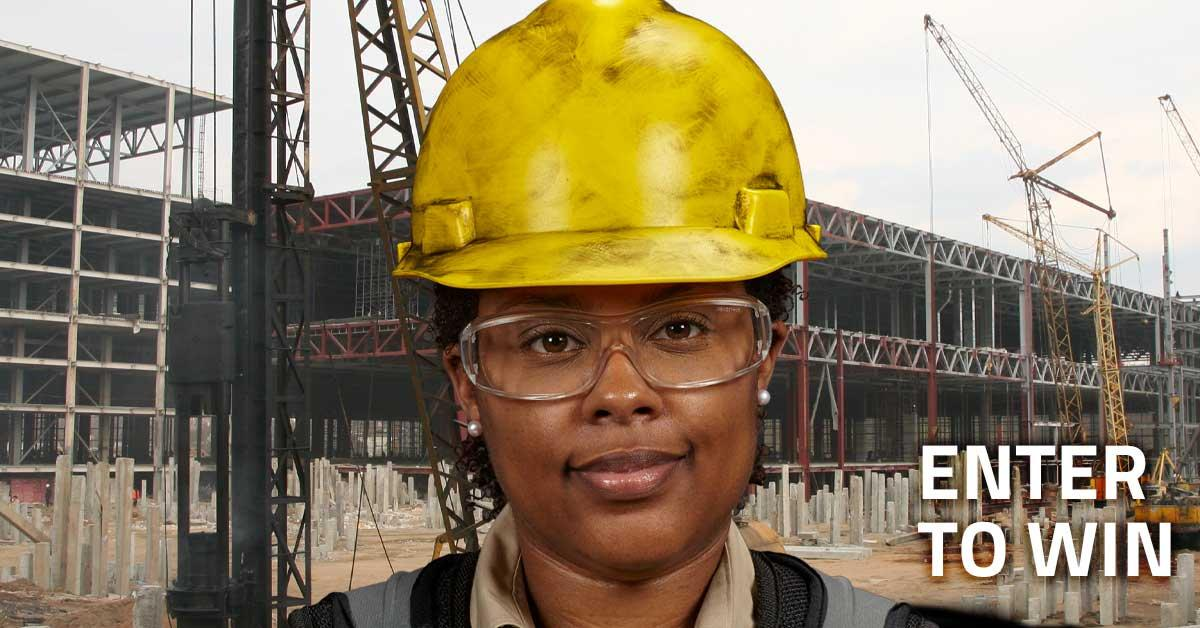helmet: (387, 1, 832, 281)
